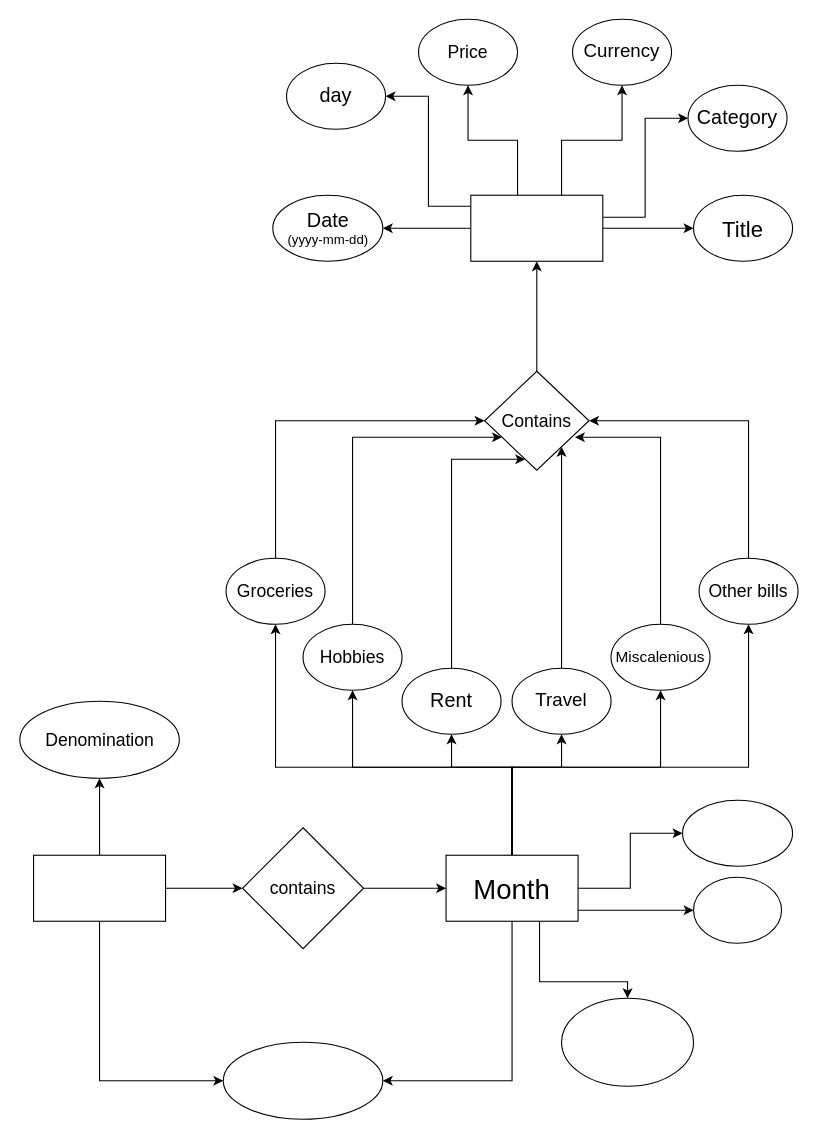
Image size: 817x1139. Some labels were removed from this diagram. Here are the shapes that lost their labels. From the top down, the centre of each, then its label:
At point (536, 227): "Expense".
At point (737, 832): "Total spending".
At point (99, 887): "Data".
At point (737, 909): "Year".
At point (627, 1041): "Name".
At point (302, 1080): "Budget".
